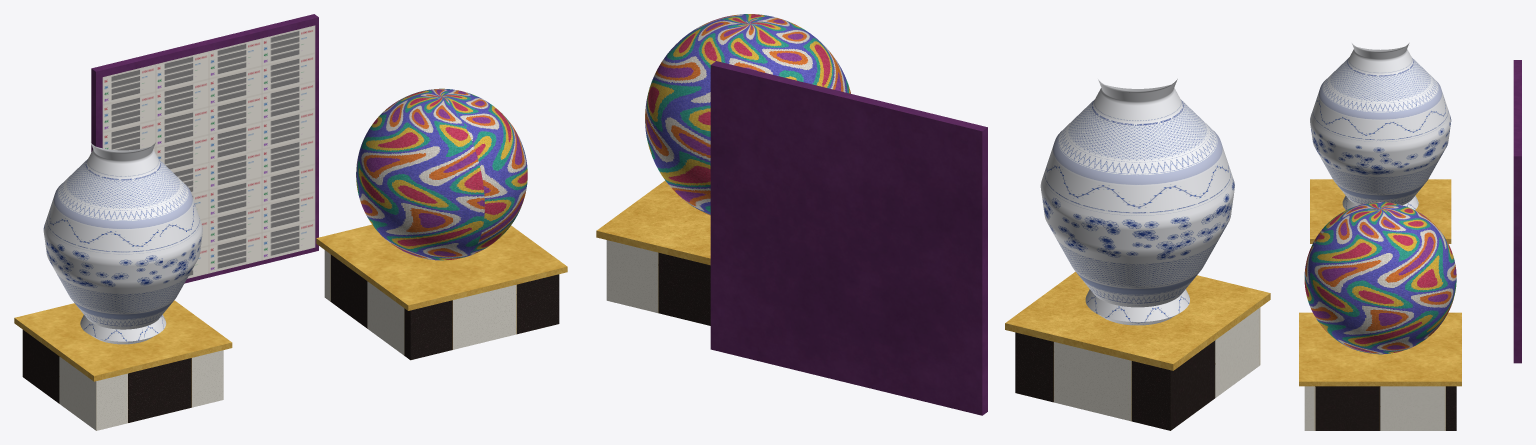
Rendered from station_2k.glb.
3 renders of one model, left to right at view 1: azimuth 30°, elevation 25°; view 2: azimuth 150°, elevation 25°; view 3: azimuth 270°, elevation 25°, orthographic. The views are drawn at different scales.
Visible parts, largest first — view 1: station_2k; view 2: station_2k; view 3: station_2k.
Part boxes in pixels (box(x1,y1,x2,y2)): station_2k: box(14, 14, 567, 430); station_2k: box(596, 14, 1270, 430); station_2k: box(1299, 43, 1521, 430).
Size of the model in its own units: 8.8 by 4.65 by 4.1.
6 materials, 6 textured.
